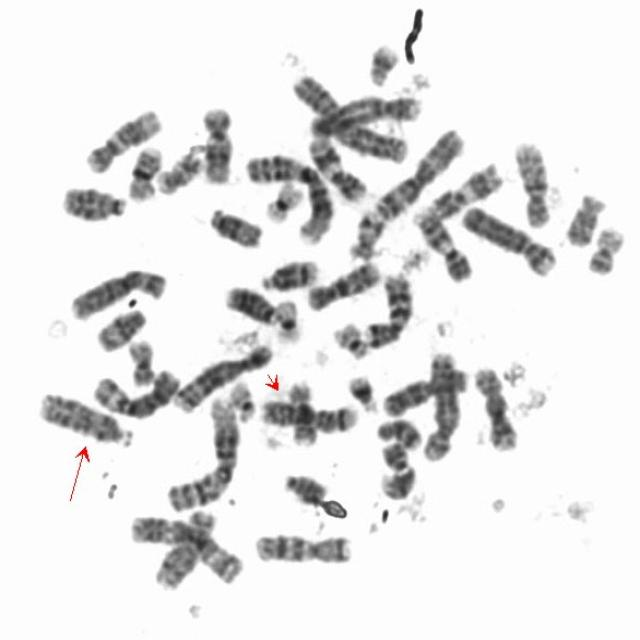A1: (160, 388, 243, 514), (240, 144, 336, 244)
A2: (288, 66, 413, 164), (302, 86, 422, 150)
A3: (370, 121, 469, 221), (122, 507, 246, 585)
B4: (456, 196, 562, 278), (304, 88, 426, 140)
B5: (167, 335, 276, 414), (417, 344, 464, 462), (256, 397, 361, 435)
C10: (300, 253, 384, 312), (509, 132, 556, 230)
C11: (422, 154, 506, 221), (303, 129, 370, 205)
C12: (80, 100, 165, 174), (197, 98, 237, 186)
C6: (64, 260, 170, 322), (86, 360, 185, 421)
C7: (357, 264, 416, 350), (248, 525, 355, 565)
C8: (148, 501, 220, 591), (467, 357, 521, 452)
C9: (408, 199, 477, 284), (374, 435, 418, 500)
D13: (56, 178, 130, 223), (218, 276, 281, 326)
D14: (31, 392, 138, 453), (254, 249, 324, 293)
D15: (202, 200, 267, 250), (90, 300, 150, 353)
E16: (282, 373, 321, 448), (120, 139, 165, 203)
E17: (343, 201, 388, 262), (152, 147, 206, 196)
E18: (560, 186, 610, 248), (371, 410, 426, 451)
F19: (258, 173, 306, 224), (268, 290, 306, 345)
F20: (581, 218, 628, 276), (122, 332, 160, 388)
G21: (363, 35, 402, 88), (342, 366, 382, 414)
G22: (328, 313, 374, 360), (223, 372, 260, 422)
X: (377, 361, 474, 419)
Y: (277, 464, 330, 504)
